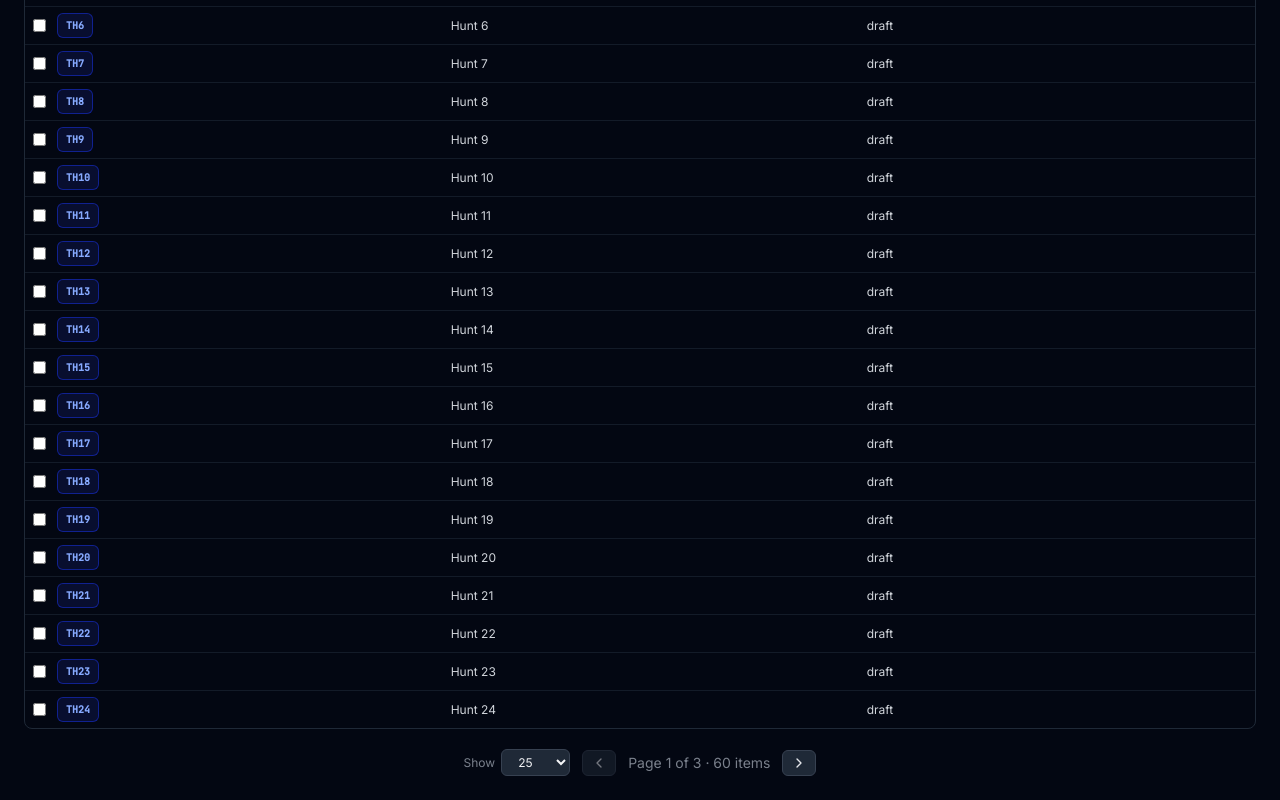
Scenario: DataExplorer — pagination (issue-local-034) › changing page size shows more rows and resets to page 1
(page scrolled)
Select "50" in the dropdown labelled "Show" at (536,762), box x1=501 y1=749 x2=570 y2=776
(page scrolled)
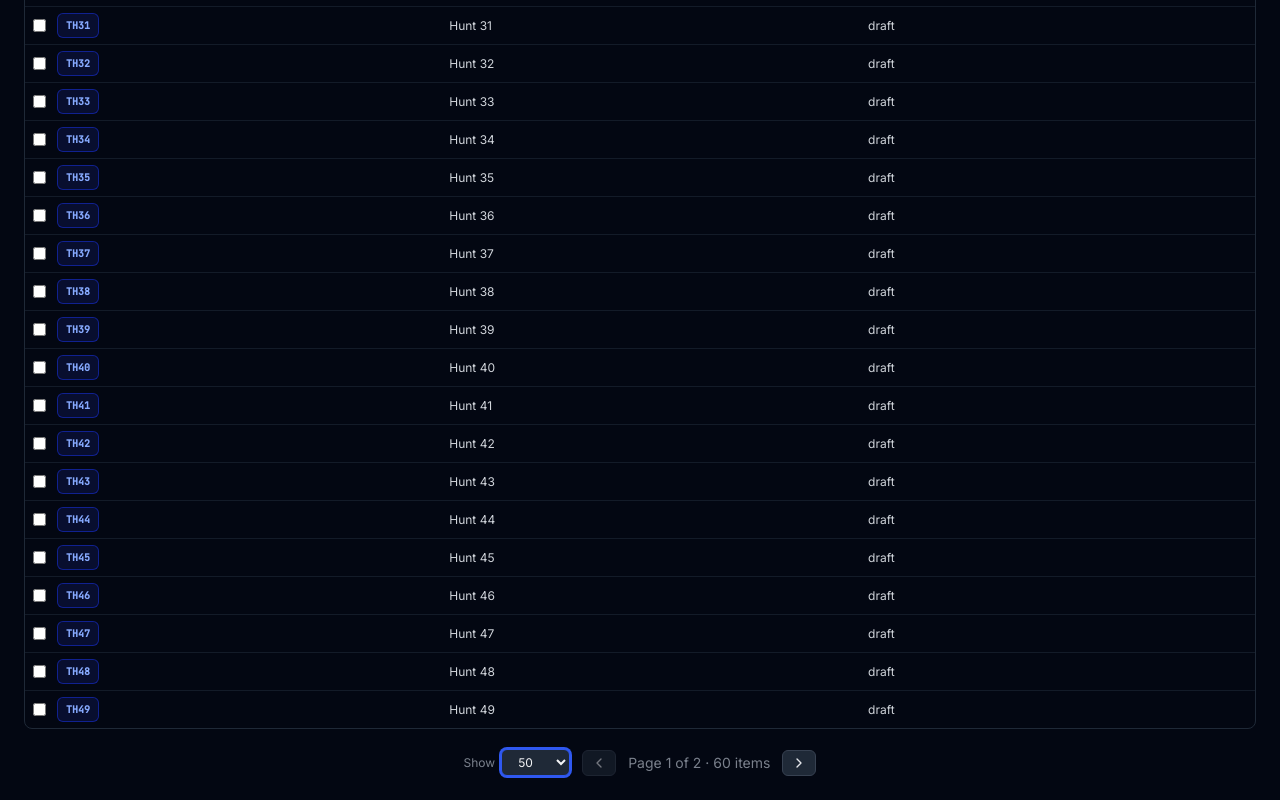
Expected: the text "Hunt 49" is shown, x1=441 y1=690 x2=860 y2=728
